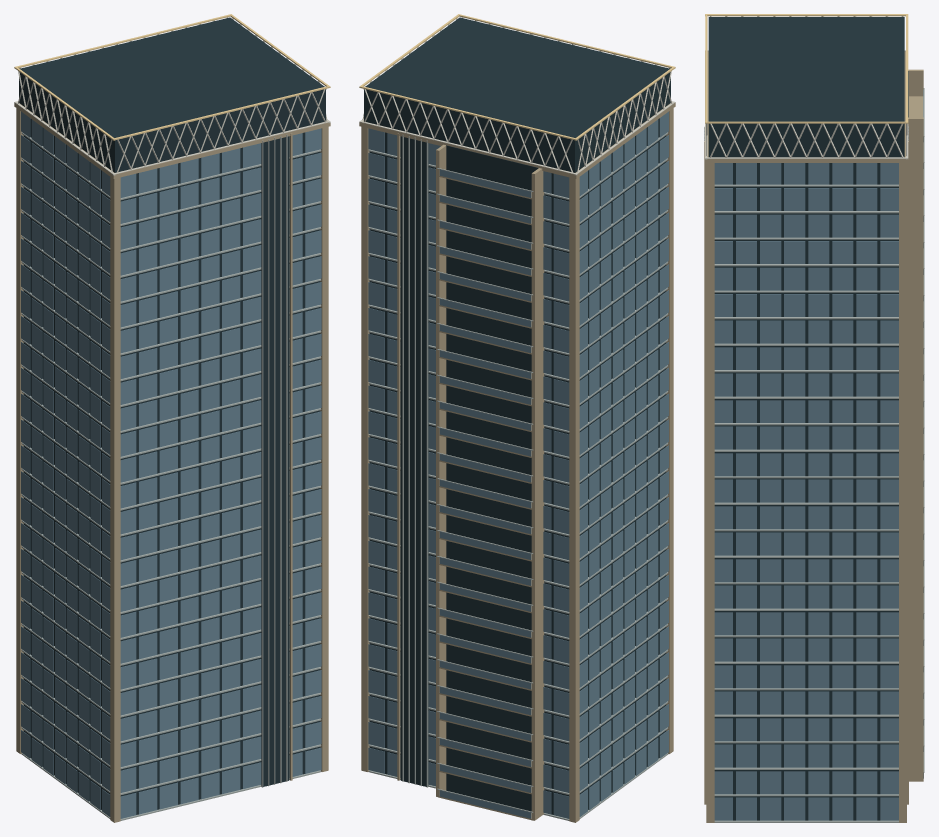
Rendered from KOL_T1_JW__Companion_Tower.fbx.
3 views of the same model, side by side, from view 1: azimuth 30°, elevation 25°; view 2: azimuth 150°, elevation 25°; view 3: azimuth 270°, elevation 25° (orthographic). The views are drawn at different scales.
Parts seen in each view (by area): view 1: KOL_T1_JW__Companion_Tower__KOL_T1_Graphite, KOL_T1_JW__Companion_Tower__KOL_T1_GlassBlue, KOL_T1_JW__Companion_Tower__KOL_T1_GlassBlue.001, KOL_T1_JW__Companion_Tower__KOL_T1_Silver, KOL_T1_JW__Companion_Tower__KOL_T1_Stone, KOL_T1_JW__Companion_Tower__KOL_T1_WarmWindow, KOL_T1_JW__Companion_Tower__KOL_T1_Pearl, KOL_T1_JW__Companion_Tower__KOL_T1_Accent; view 2: KOL_T1_JW__Companion_Tower__KOL_T1_Graphite, KOL_T1_JW__Companion_Tower__KOL_T1_GlassBlue, KOL_T1_JW__Companion_Tower__KOL_T1_GlassBlue.001, KOL_T1_JW__Companion_Tower__KOL_T1_Stone, KOL_T1_JW__Companion_Tower__KOL_T1_Silver, KOL_T1_JW__Companion_Tower__KOL_T1_WarmWindow, KOL_T1_JW__Companion_Tower__KOL_T1_Pearl, KOL_T1_JW__Companion_Tower__KOL_T1_Accent; view 3: KOL_T1_JW__Companion_Tower__KOL_T1_GlassBlue, KOL_T1_JW__Companion_Tower__KOL_T1_Graphite, KOL_T1_JW__Companion_Tower__KOL_T1_GlassBlue.001, KOL_T1_JW__Companion_Tower__KOL_T1_Stone, KOL_T1_JW__Companion_Tower__KOL_T1_Silver, KOL_T1_JW__Companion_Tower__KOL_T1_Pearl, KOL_T1_JW__Companion_Tower__KOL_T1_Accent.
Boxes of the visible parts, <box> form: KOL_T1_JW__Companion_Tower__KOL_T1_Graphite: <box>19,17,325,814</box>; KOL_T1_JW__Companion_Tower__KOL_T1_GlassBlue: <box>21,427,321,818</box>; KOL_T1_JW__Companion_Tower__KOL_T1_GlassBlue.001: <box>21,119,321,482</box>; KOL_T1_JW__Companion_Tower__KOL_T1_Silver: <box>21,132,321,820</box>; KOL_T1_JW__Companion_Tower__KOL_T1_Stone: <box>14,103,330,822</box>; KOL_T1_JW__Companion_Tower__KOL_T1_WarmWindow: <box>21,111,302,777</box>; KOL_T1_JW__Companion_Tower__KOL_T1_Pearl: <box>14,17,330,175</box>; KOL_T1_JW__Companion_Tower__KOL_T1_Accent: <box>14,14,330,140</box>; KOL_T1_JW__Companion_Tower__KOL_T1_Graphite: <box>364,17,670,814</box>; KOL_T1_JW__Companion_Tower__KOL_T1_GlassBlue: <box>368,393,668,818</box>; KOL_T1_JW__Companion_Tower__KOL_T1_GlassBlue.001: <box>368,111,668,482</box>; KOL_T1_JW__Companion_Tower__KOL_T1_Stone: <box>359,102,675,822</box>; KOL_T1_JW__Companion_Tower__KOL_T1_Silver: <box>368,132,668,820</box>; KOL_T1_JW__Companion_Tower__KOL_T1_WarmWindow: <box>553,171,587,818</box>; KOL_T1_JW__Companion_Tower__KOL_T1_Pearl: <box>359,17,675,175</box>; KOL_T1_JW__Companion_Tower__KOL_T1_Accent: <box>359,14,675,140</box>; KOL_T1_JW__Companion_Tower__KOL_T1_GlassBlue: <box>714,455,923,820</box>; KOL_T1_JW__Companion_Tower__KOL_T1_Graphite: <box>708,17,908,820</box>; KOL_T1_JW__Companion_Tower__KOL_T1_GlassBlue.001: <box>714,90,923,476</box>; KOL_T1_JW__Companion_Tower__KOL_T1_Stone: <box>704,51,923,822</box>; KOL_T1_JW__Companion_Tower__KOL_T1_Silver: <box>704,88,924,822</box>; KOL_T1_JW__Companion_Tower__KOL_T1_Pearl: <box>705,16,908,159</box>; KOL_T1_JW__Companion_Tower__KOL_T1_Accent: <box>705,14,908,123</box>.
Bounding box in the file's own units: 72 × 217 × 61.75.
